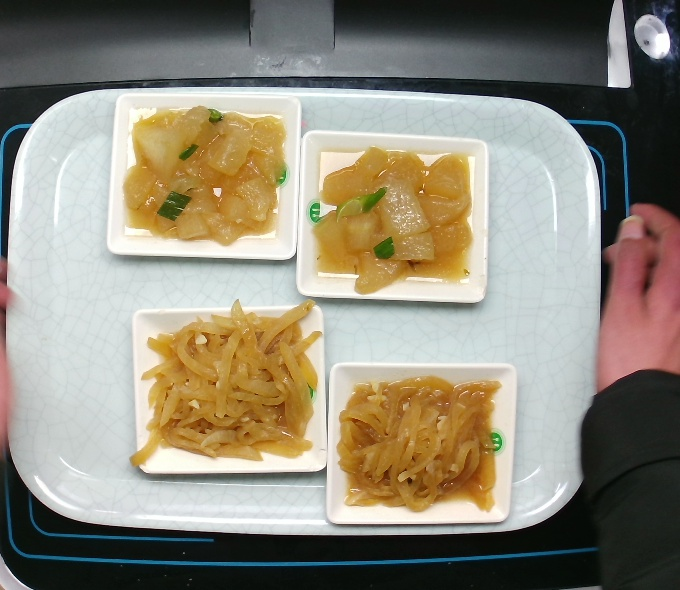wcq-DongGua: (303, 137, 482, 301), (111, 100, 294, 250)
wcq-LuoBoSi: (121, 296, 328, 472), (331, 370, 513, 517)
